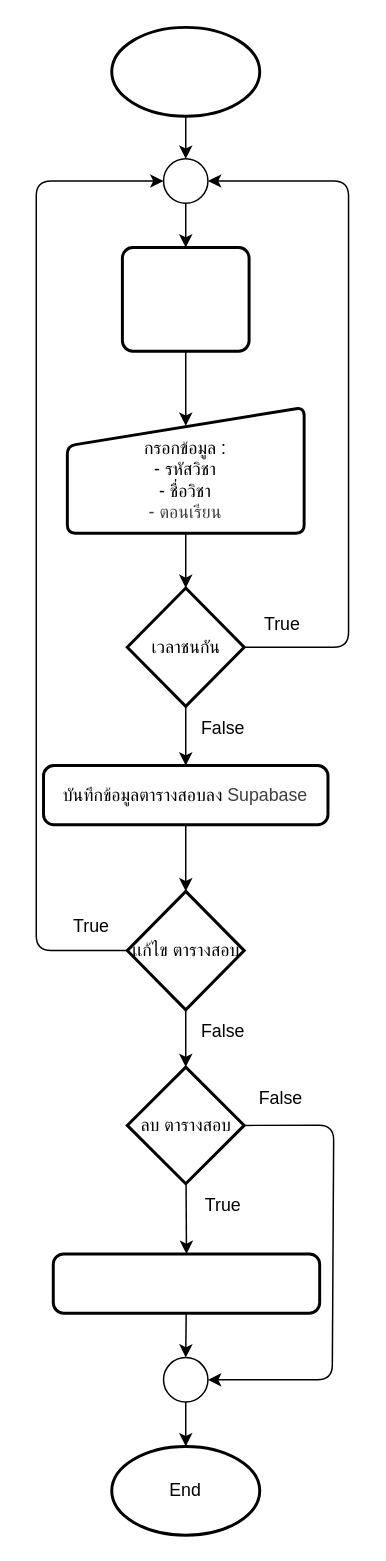
This 386x1561 diagram has some shape labels left out. Each missing label, with the box of its shape:
ลบข้อมูลตารางสอบจาก Supabase: (51, 1252, 320, 1314)
สร้างตารางสอบ: (110, 25, 260, 117)
เลือก : - ห้องสอบ - วันที่สอบ - เวลาสอบ: (120, 245, 250, 352)
